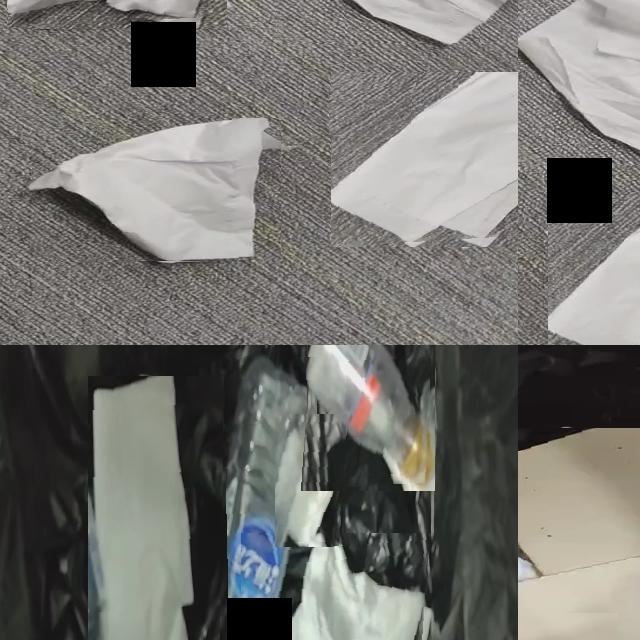bottle: (204, 357, 317, 640), (308, 345, 429, 486)
carton: (518, 428, 640, 640)
paper: (33, 118, 281, 261), (331, 72, 518, 243), (94, 376, 194, 640), (518, 0, 640, 151), (285, 533, 426, 640), (548, 232, 640, 345), (275, 414, 346, 547), (296, 459, 350, 546), (329, 87, 413, 137), (416, 75, 444, 90)
